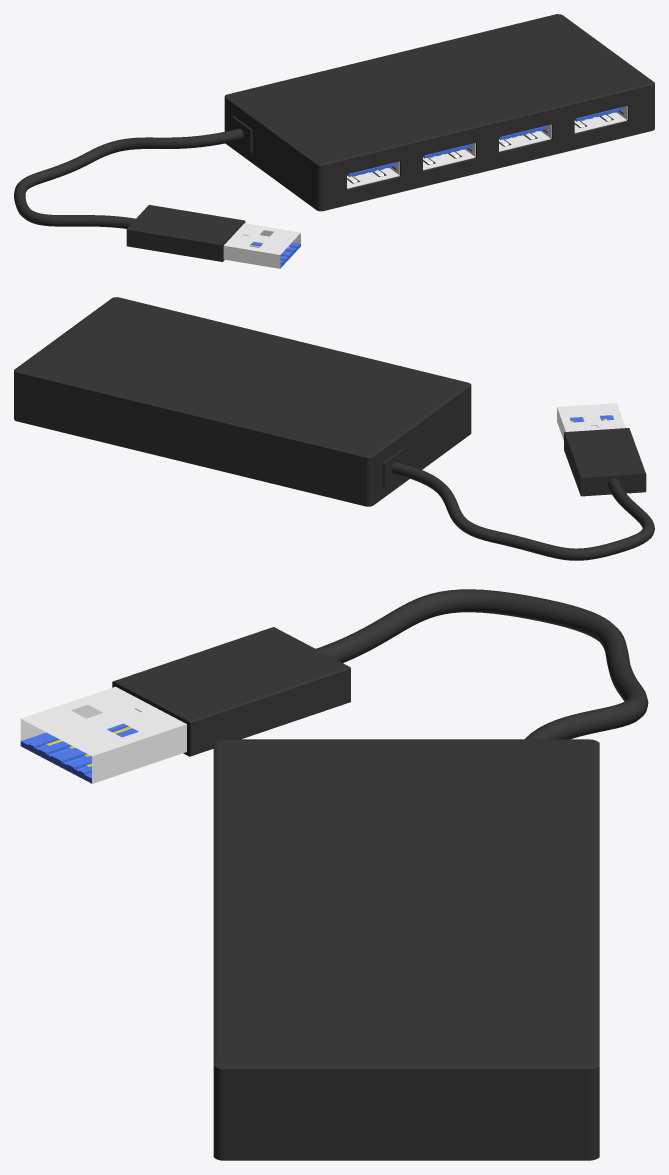
File: usb-hub.fbx
3 renders of one model, top to bottom at view 1: azimuth 30°, elevation 25°; view 2: azimuth 150°, elevation 25°; view 3: azimuth 270°, elevation 25°, orthographic. The views are drawn at different scales.
Visible parts, largest first — view 1: Cube, Cube.006, BezierCurve, Cube.007, Plane, Plane.001, Plane.002, Plane.003, Cube.005; view 2: Cube, BezierCurve, Cube.006, Cube.007, Cube.005; view 3: Cube, Cube.006, BezierCurve, Cube.007, Cube.008.
Boxes of the visible parts, x1,y1,x2,y2 form: Cube: [224, 14, 654, 211]; Cube.006: [126, 205, 245, 261]; BezierCurve: [14, 128, 243, 228]; Cube.007: [223, 223, 300, 268]; Plane: [574, 106, 627, 133]; Plane.001: [499, 124, 551, 151]; Plane.002: [423, 143, 475, 170]; Plane.003: [347, 161, 399, 188]; Cube.005: [231, 116, 252, 152]; Cube: [14, 297, 471, 506]; BezierCurve: [391, 462, 654, 560]; Cube.006: [564, 428, 646, 496]; Cube.007: [557, 403, 625, 440]; Cube.005: [382, 448, 404, 487]; Cube: [213, 739, 599, 1160]; Cube.006: [112, 627, 350, 756]; BezierCurve: [316, 589, 648, 739]; Cube.007: [20, 686, 186, 783]; Cube.008: [20, 723, 138, 783].
Size of what is drawn, in the model's own units: 680 by 55.47 by 325.
